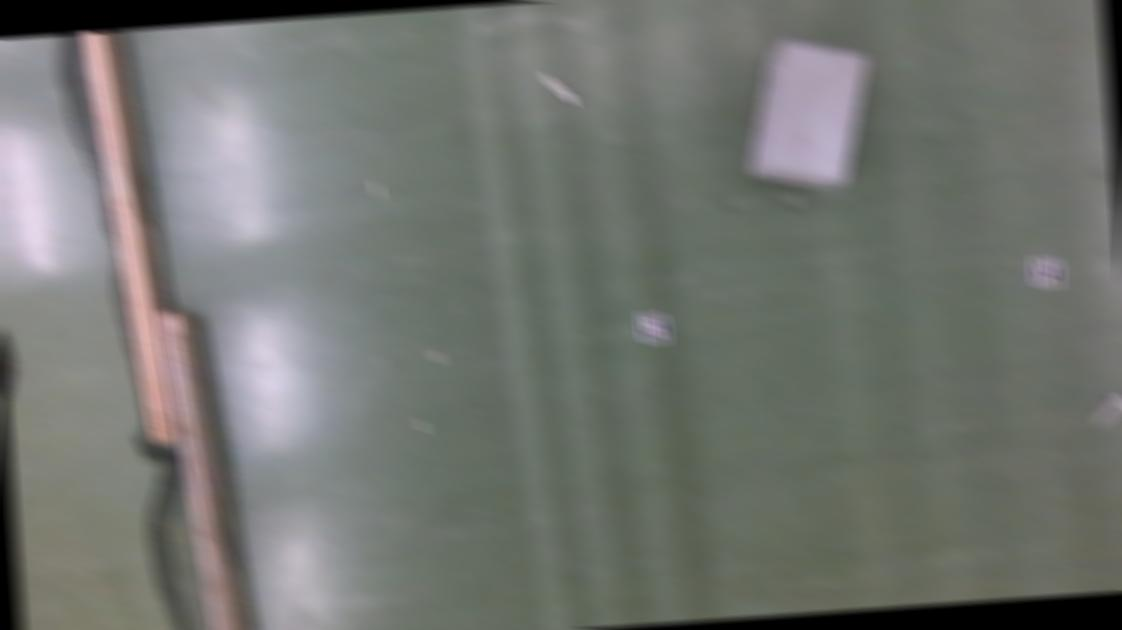probes: (540, 68, 576, 108), (1088, 391, 1122, 427)
rako: (736, 29, 877, 192)
